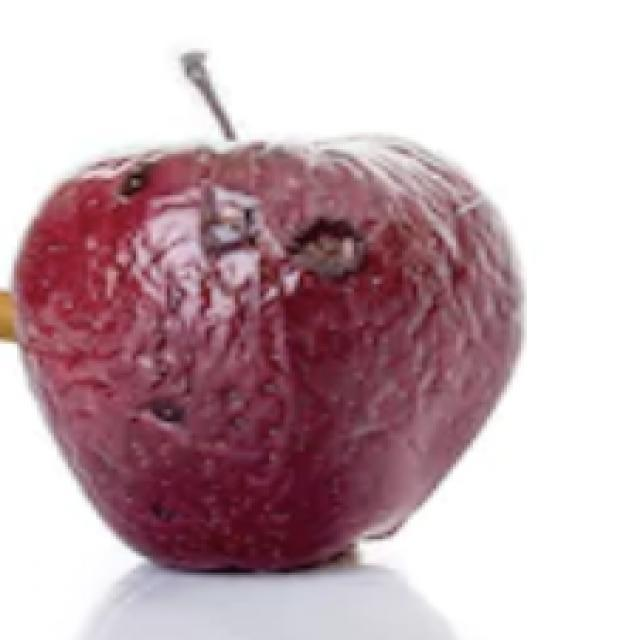Rotten: (14, 127, 528, 580)
